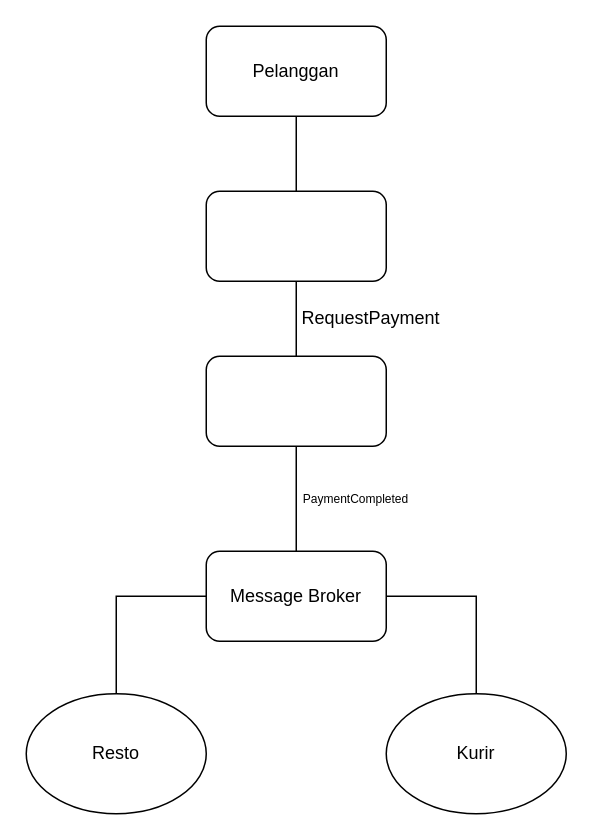
Some shapes in this 593 by 840 pixel diagram are drawn without their labels. Here are the shapes that lost their labels. From the top down, the box of each, then its label:
(205, 190, 386, 281): Pesanan
(205, 355, 386, 446): Pembayaran
